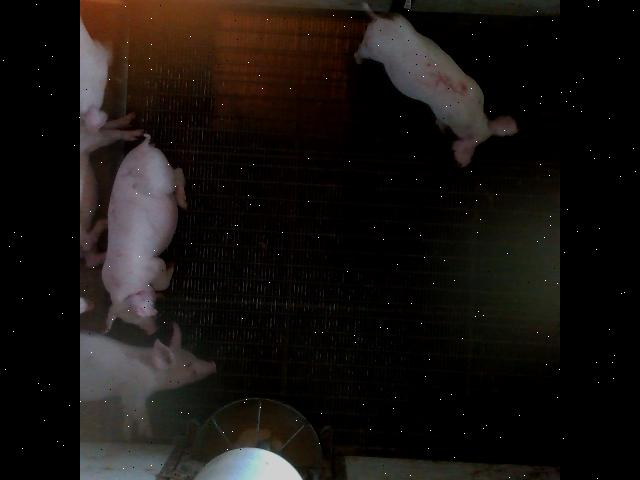pig-5: (354, 1, 519, 166)
